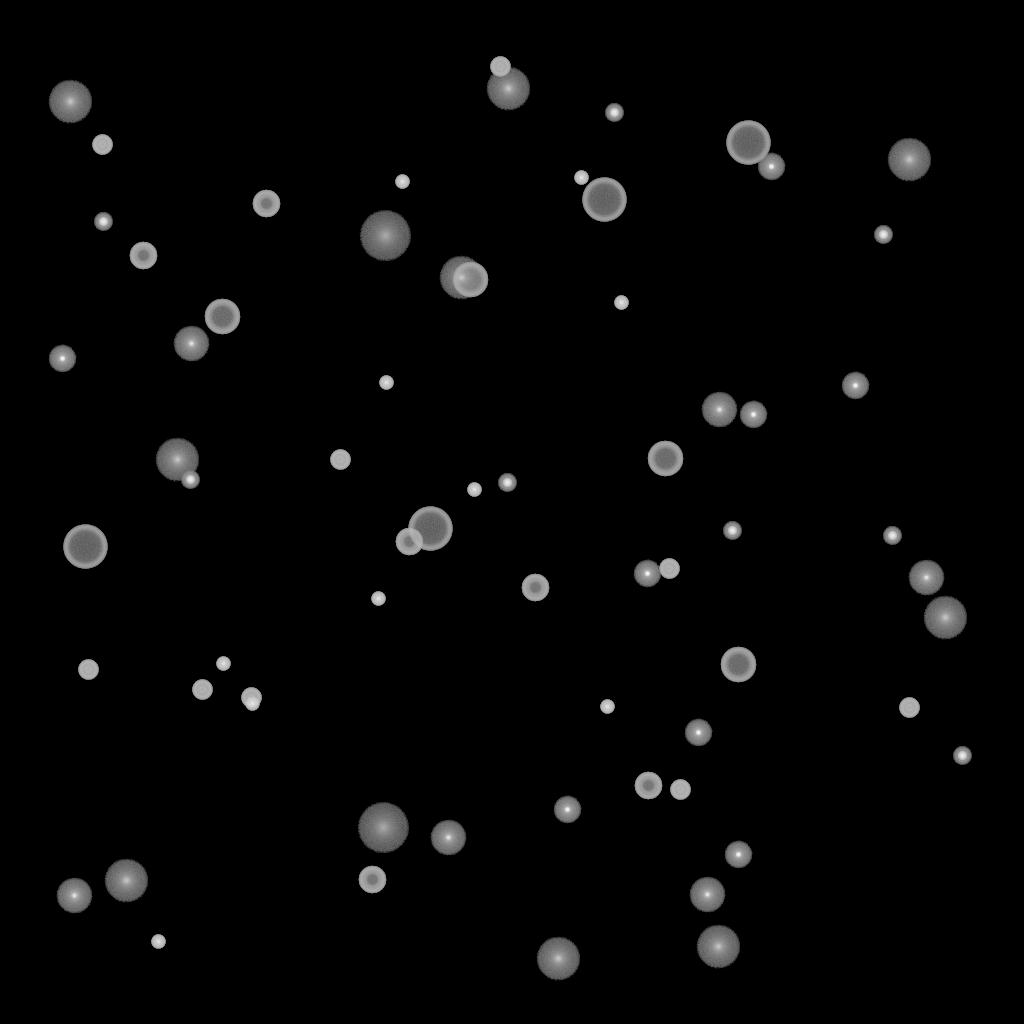depth:-10: (684, 719, 712, 747), (48, 345, 76, 373), (757, 153, 785, 181), (724, 841, 752, 869), (633, 560, 661, 588), (739, 401, 767, 429), (841, 372, 869, 400), (553, 796, 581, 824)
depth:-20: (953, 747, 971, 765), (181, 471, 199, 489), (498, 474, 516, 492), (874, 226, 892, 244), (883, 527, 901, 545), (605, 104, 623, 122), (723, 522, 741, 540), (94, 213, 112, 231)
depth:-30: (600, 700, 614, 714), (379, 376, 393, 390), (467, 483, 481, 497), (574, 171, 588, 185), (395, 175, 409, 189), (216, 657, 230, 671), (371, 592, 385, 606), (151, 935, 165, 949), (614, 296, 628, 310), (245, 697, 259, 711)
depth:-40: (670, 780, 690, 800), (192, 680, 212, 700), (241, 688, 261, 708), (92, 135, 112, 155), (899, 698, 919, 718), (659, 559, 679, 579), (490, 57, 510, 77), (78, 660, 98, 680), (330, 450, 350, 470)
depth:-50: (634, 772, 662, 800), (521, 574, 549, 602), (252, 190, 280, 218), (358, 866, 386, 894), (129, 242, 157, 270), (395, 528, 423, 556)
depth:-60: (720, 647, 756, 683), (647, 441, 683, 477), (204, 299, 240, 335), (452, 262, 488, 298)
depth:-70: (408, 507, 452, 551), (726, 121, 770, 165), (582, 178, 626, 222), (63, 525, 107, 569)
depth:0: (56, 878, 92, 914), (701, 392, 737, 428), (173, 326, 209, 362), (689, 877, 725, 913), (908, 560, 944, 596), (430, 820, 466, 856)
depth:10: (439, 256, 483, 300), (155, 438, 199, 482), (536, 937, 580, 981), (104, 859, 148, 903), (696, 925, 740, 969), (923, 596, 967, 640), (48, 80, 92, 124), (887, 138, 931, 182), (486, 67, 530, 111)
depth:20: (359, 211, 411, 261), (357, 803, 409, 853)
